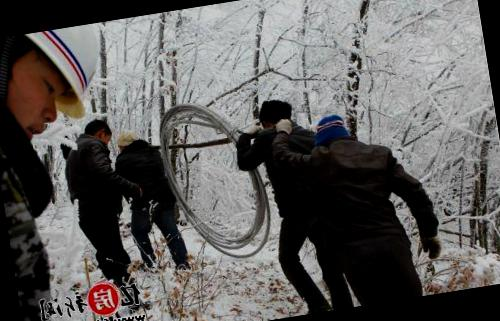no_helmet: (308, 107, 362, 160), (250, 92, 298, 141), (75, 116, 119, 152), (111, 126, 143, 160)
